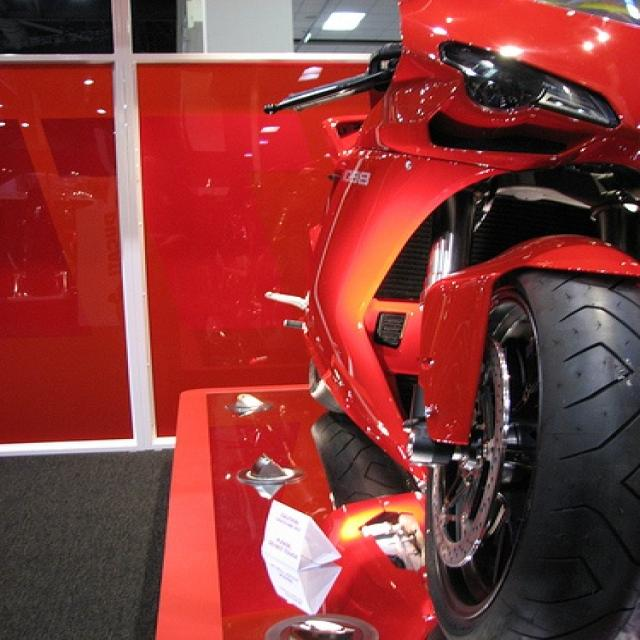motorbike: (259, 0, 638, 637)
